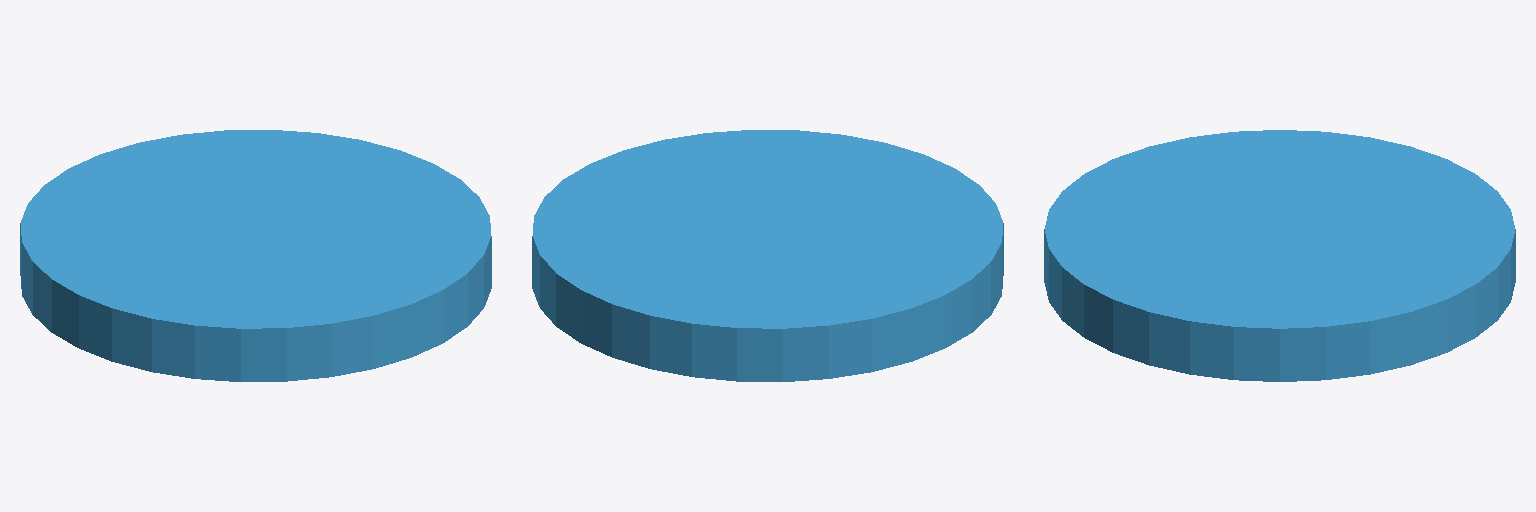
robot.urdf — big_bazu:
<?xml version="1.0"?>
<robot name="big_bazu">
    <link name="world"/>

    <link name="base_link">
        <visual>
            <geometry>
                <cylinder radius="0.2" length="0.05"/>
            </geometry>
            <origin xyz="0.0 0.0 0.0" rpy="0.0 0.0 0.0"/>
            <material name="">
                <color rgba=""/>
            </material>            
        </visual>
    </link>
    
    <joint name="base_joint" type="revolute">
        <parent link="world"/>
        <child link="base_link"/>
        <axis xyz="0 0 0"/>
        <limit lower="-3.14159" upper="3.14159" velocity="50.0" effort="1000.0"/>
        <origin xyz="0 0 0" rpy="0 0 0"/>
    </joint>
    
    
</robot>

--- What the picture shows (computed from the rendered views, not written in the file) ---
3 views of the same robot in one strip: view 1: azimuth 30°, elevation 25°; view 2: azimuth 150°, elevation 25°; view 3: azimuth 270°, elevation 25° (orthographic).
Model big_bazu with 2 links and 1 joints (1 revolute), rooted at world, posed every joint at zero.
Links seen in each view (by area): view 1: base_link; view 2: base_link; view 3: base_link.
Link boxes in pixels (left/top/right/bottom): base_link: left=20, top=130, right=491, bottom=381; base_link: left=532, top=130, right=1003, bottom=381; base_link: left=1044, top=130, right=1515, bottom=381.
Size in the robot's own frame: 0.4 by 0.4 by 0.05 metres.
Geometry: primitives only (box / cylinder / sphere), no mesh files.